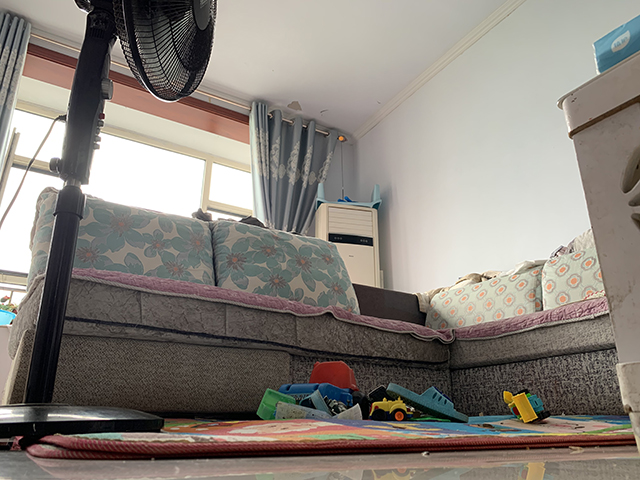carpet: (9, 412, 636, 459)
sofa: (3, 185, 632, 419)
